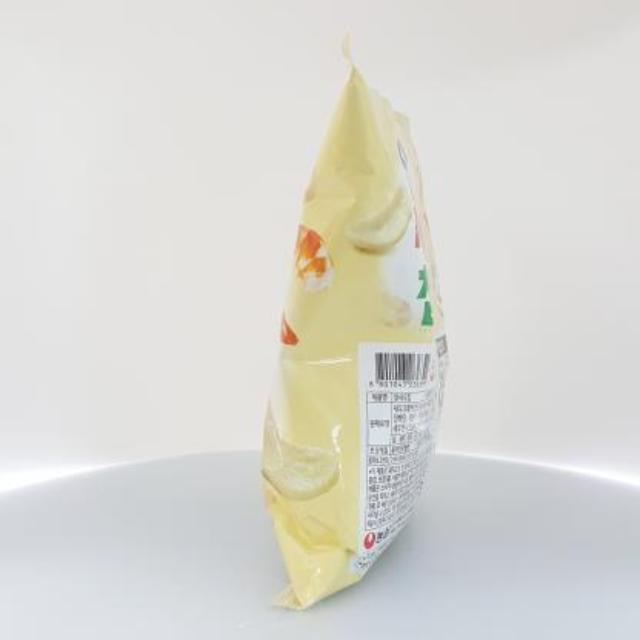snack_bag: (242, 21, 460, 616)
